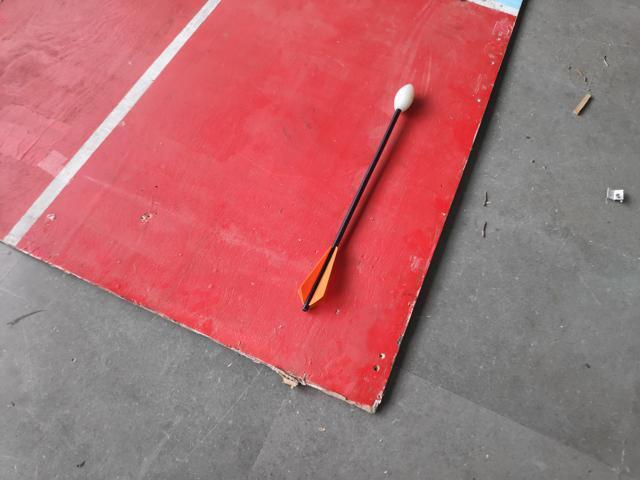Head: (390, 77, 418, 118)
Tail: (297, 243, 342, 311)
